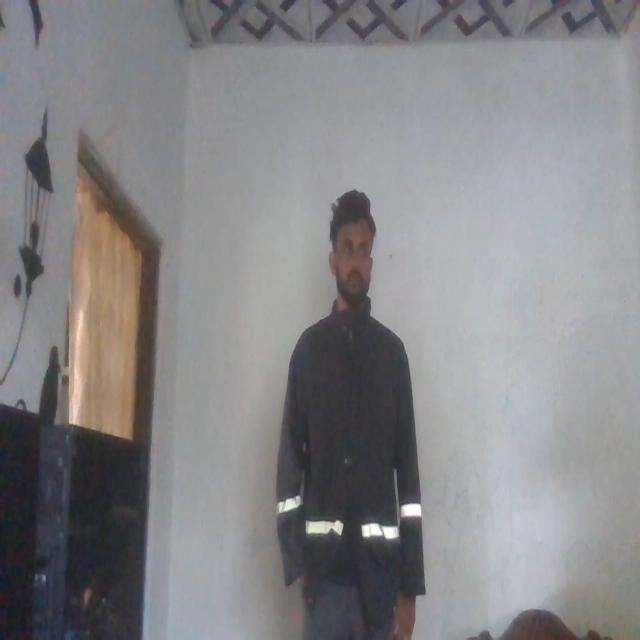Jacket_Wearer: (276, 300, 426, 580)
Person: (276, 180, 434, 640)
